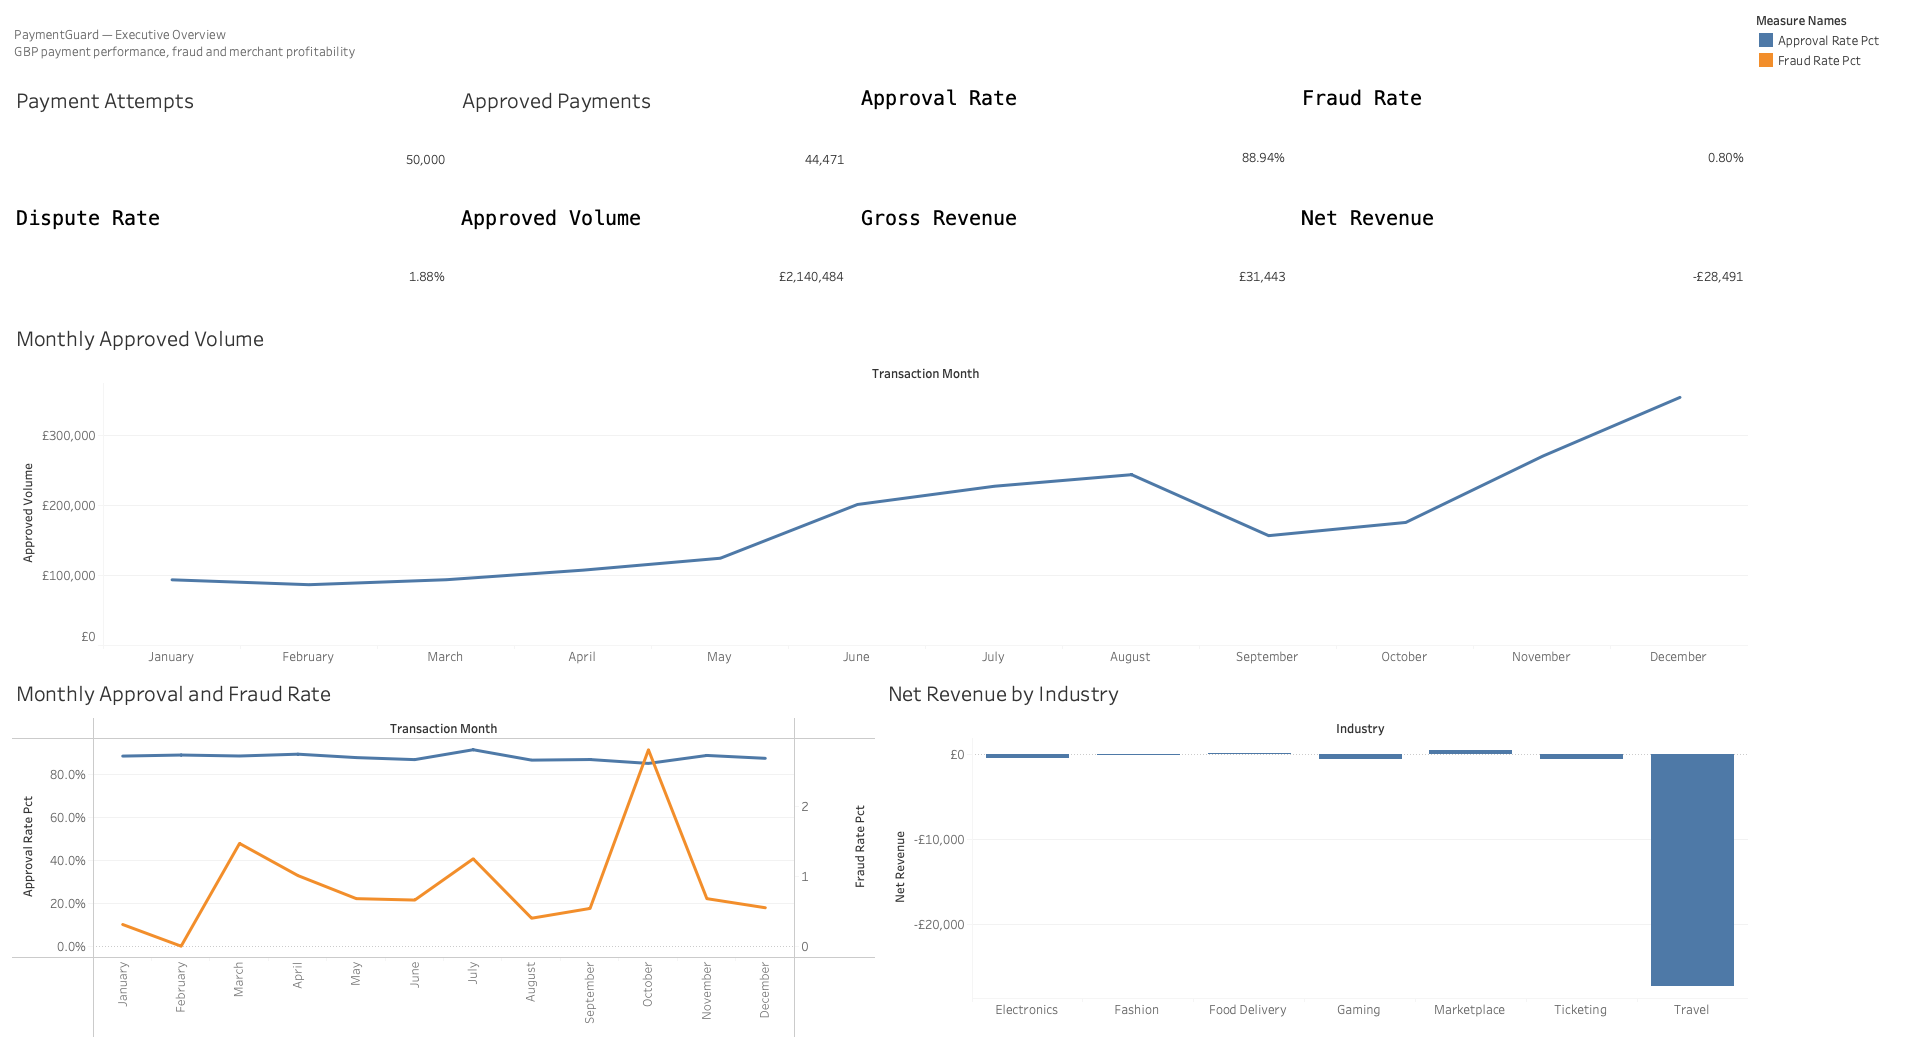

Layout of this report page (visuals, bound fields, positions):
{"tool":"tableau","page":{"name":"Executive Overview","canvas":[1000,1000],"units":"permille","ordinal":0},"visuals":[{"type":"text","box":[4.7,8.1,897,66.7]},{"type":"legend","title":"Monthly Approval and Fraud Rate","param":"[federated.1134i4g0arcifc0zt9q2z1az2onj].[:Measure Names]","box":[901.7,8.1,93.6,66.8]},{"type":"worksheet","title":"Payment Attempts","mark":"Automatic","box":[4.7,74.8,229.3,114.4]},{"type":"worksheet","title":"KPI - Approved Payments","mark":"Automatic","box":[234,74.8,205.4,114.4]},{"type":"worksheet","title":"KPI - Approval Rate","mark":"Automatic","box":[439.4,74.8,226.8,114.4]},{"type":"worksheet","title":"KPI - Fraud Rate","mark":"Automatic","box":[666.2,74.8,235.5,114.4]},{"type":"worksheet","title":"KPI - Dispute Rate","mark":"Automatic","box":[4.7,189.2,229.2,112.4]},{"type":"worksheet","title":"KPI - Approved Volume","mark":"Automatic","box":[233.8,189.2,205.4,112.4]},{"type":"worksheet","title":"KPI - Gross Revenue","mark":"Automatic","box":[439.2,189.2,227,112.4]},{"type":"worksheet","title":"KPI - Net Revenue","mark":"Automatic","box":[666.3,189.2,235.4,112.4]},{"type":"worksheet","title":"Monthly Approved Volume","mark":"Line","rows":["approved_volume"],"cols":["transaction_month"],"box":[4.7,301.5,897,337.1]},{"type":"worksheet","title":"Monthly Approval and Fraud Rate","mark":"Automatic","rows":["approval_rate_pct","fraud_rate_pct"],"cols":["transaction_month"],"box":[4.7,638.6,448.4,353.3]},{"type":"worksheet","title":"Net Revenue by Industry","mark":"Automatic","rows":["net_revenue"],"cols":["industry"],"box":[453,638.6,448.7,353.3]}]}

Visuals, with their boxes on the dashboard's canvas, which has no fixed pixel size, in thousandths of its width and height (x1, y1, x2, y2). These are canvas units, not pixel positions in the 1916x1048 screenshot, which may show the page scaled, cropped or inside an application window:
text: pyautogui.locateOnScreen(5, 8, 902, 75)
"Monthly Approval and Fraud Rate" legend: pyautogui.locateOnScreen(902, 8, 995, 75)
"Payment Attempts" worksheet: pyautogui.locateOnScreen(5, 75, 234, 189)
"KPI - Approved Payments" worksheet: pyautogui.locateOnScreen(234, 75, 439, 189)
"KPI - Approval Rate" worksheet: pyautogui.locateOnScreen(439, 75, 666, 189)
"KPI - Fraud Rate" worksheet: pyautogui.locateOnScreen(666, 75, 902, 189)
"KPI - Dispute Rate" worksheet: pyautogui.locateOnScreen(5, 189, 234, 302)
"KPI - Approved Volume" worksheet: pyautogui.locateOnScreen(234, 189, 439, 302)
"KPI - Gross Revenue" worksheet: pyautogui.locateOnScreen(439, 189, 666, 302)
"KPI - Net Revenue" worksheet: pyautogui.locateOnScreen(666, 189, 902, 302)
"Monthly Approved Volume" worksheet (Line marks): pyautogui.locateOnScreen(5, 302, 902, 639)
"Monthly Approval and Fraud Rate" worksheet: pyautogui.locateOnScreen(5, 639, 453, 992)
"Net Revenue by Industry" worksheet: pyautogui.locateOnScreen(453, 639, 902, 992)
